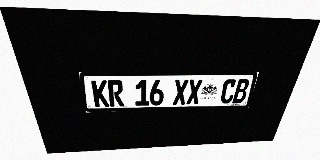1: (135, 80, 149, 106)
6: (150, 80, 164, 105)
B: (232, 79, 250, 103)
C: (219, 79, 237, 104)
K: (91, 80, 109, 107)
R: (107, 80, 124, 107)
X: (186, 79, 203, 104), (173, 80, 188, 105)
